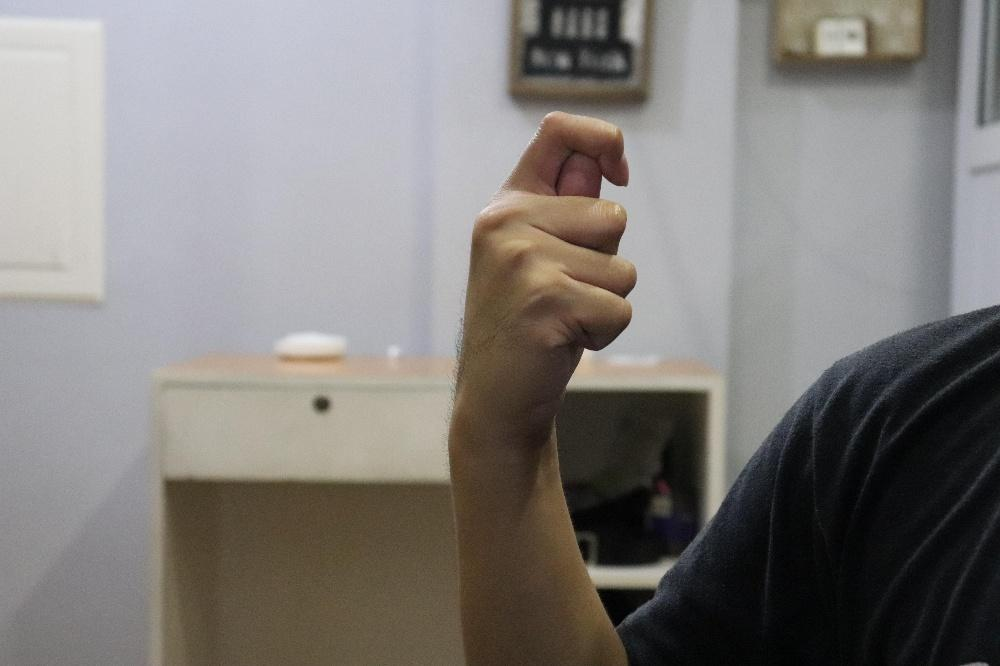t: (450, 108, 637, 445)
